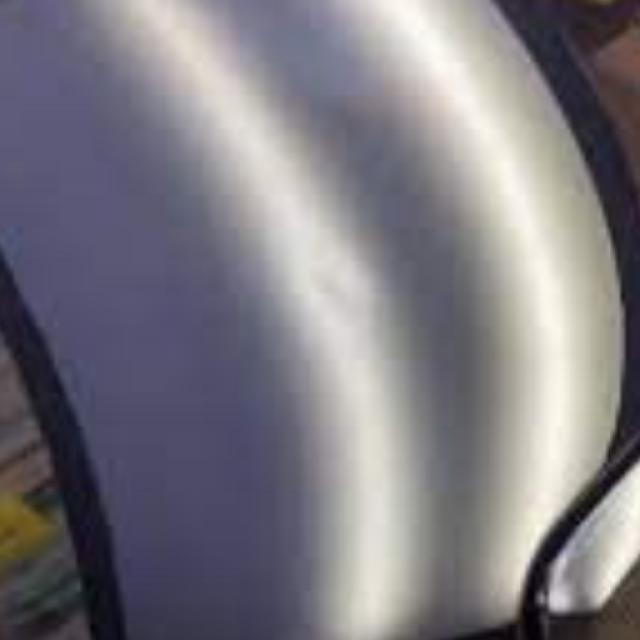dents: (278, 233, 406, 370)
